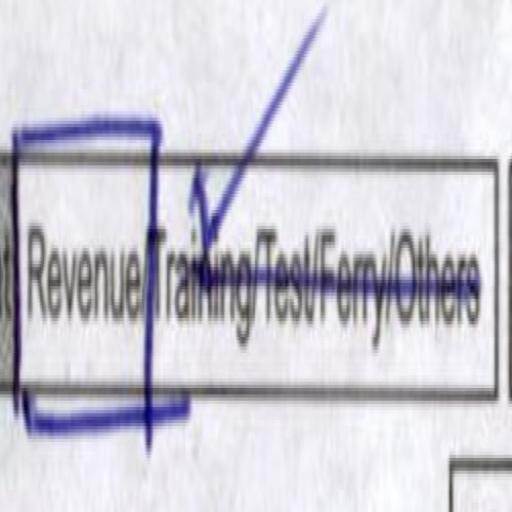check: (6, 52, 152, 459), (157, 23, 255, 476)
